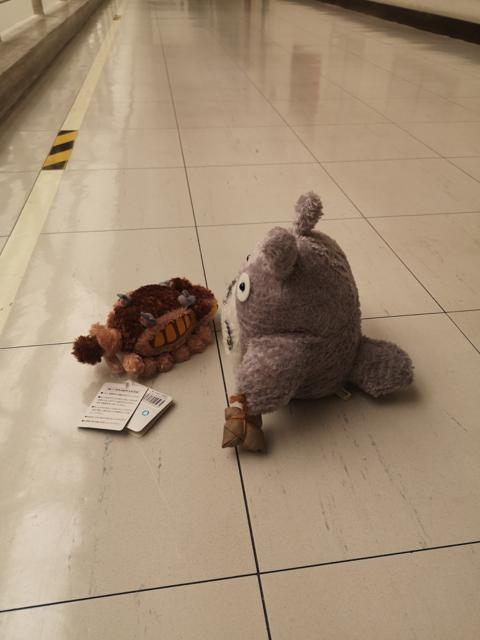nekobus: (70, 267, 220, 383)
totoro: (217, 186, 418, 455)
